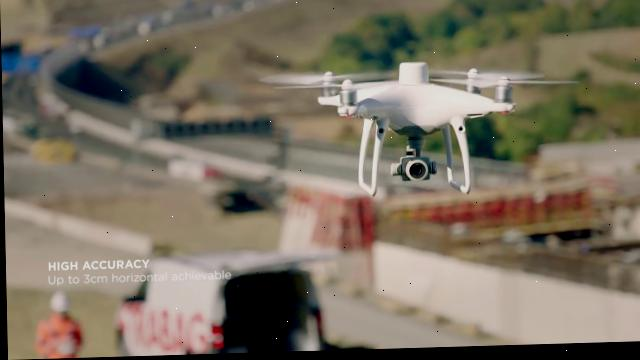drone: (255, 58, 586, 206)
